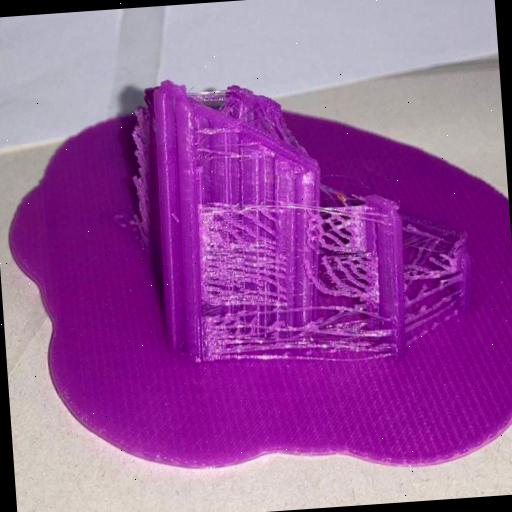stringing: (194, 198, 390, 370), (390, 244, 464, 326)
